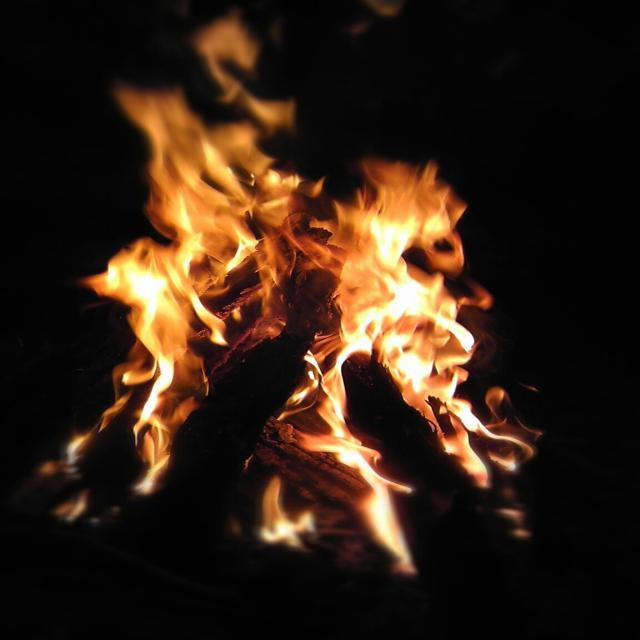Fire: (100, 61, 541, 568)
